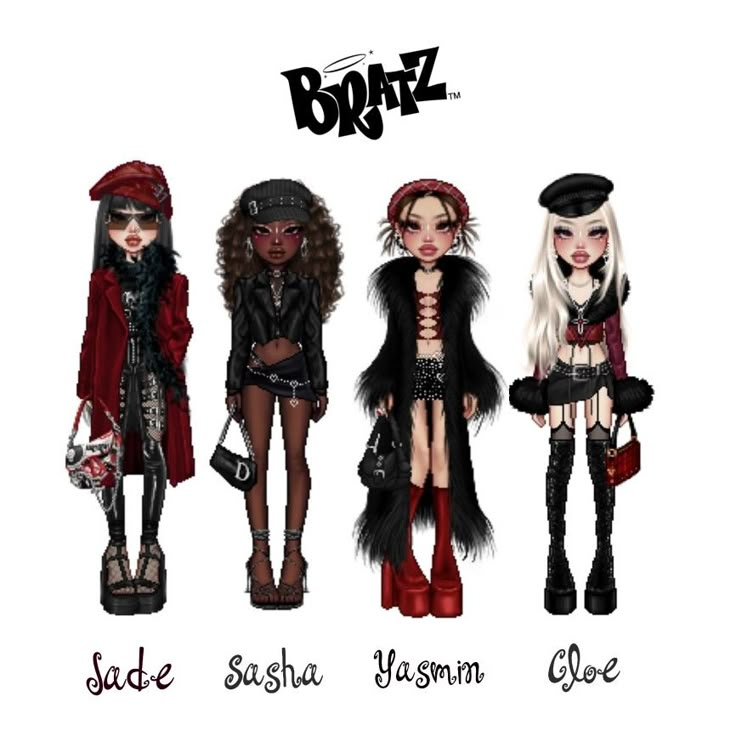Imprimante: (445, 424, 613, 588)
